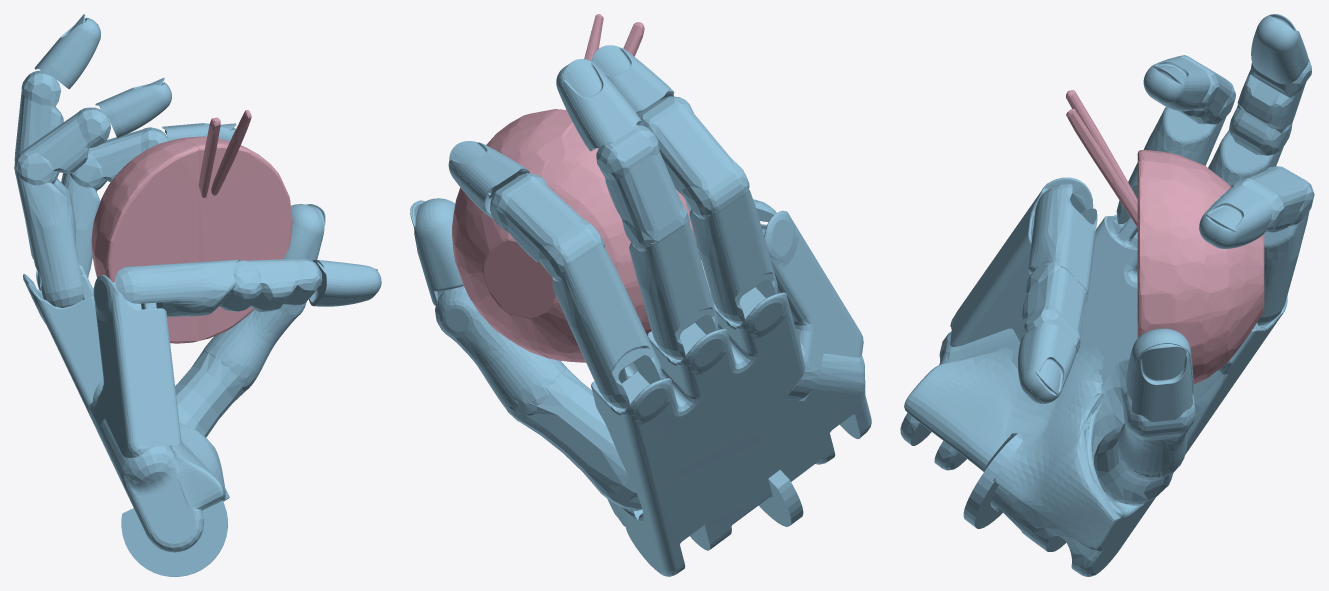
3 renders of one model, left to right at view 1: azimuth 30°, elevation 25°; view 2: azimuth 150°, elevation 25°; view 3: azimuth 270°, elevation 25°, orthographic. The views are drawn at different scales.
Visible parts, largest first — view 1: hand_isaac_q, world; view 2: hand_isaac_q, world; view 3: hand_isaac_q, world.
Boxes of the visible parts, <box> form: hand_isaac_q: <box>14,14,381,576</box>; world: <box>91,110,292,343</box>; hand_isaac_q: <box>410,45,871,576</box>; world: <box>452,14,696,362</box>; hand_isaac_q: <box>900,14,1314,576</box>; world: <box>1066,90,1264,384</box>.
Size of the model in its own units: 0.1273 by 0.1944 by 0.1318.
